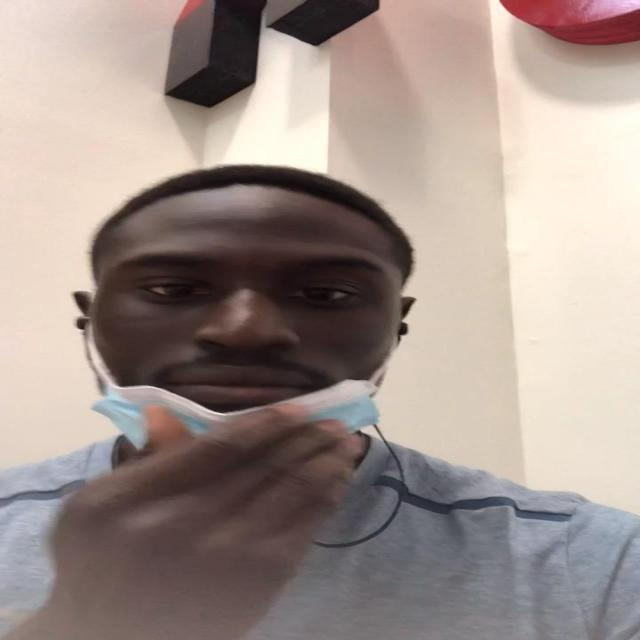face: (88, 206, 416, 456)
